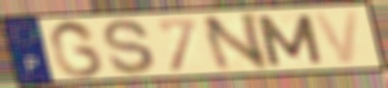7: (155, 16, 201, 73)
G: (47, 18, 107, 79)
M: (253, 12, 327, 68)
N: (198, 10, 272, 74)
S: (100, 17, 158, 77)
V: (310, 9, 362, 66)
